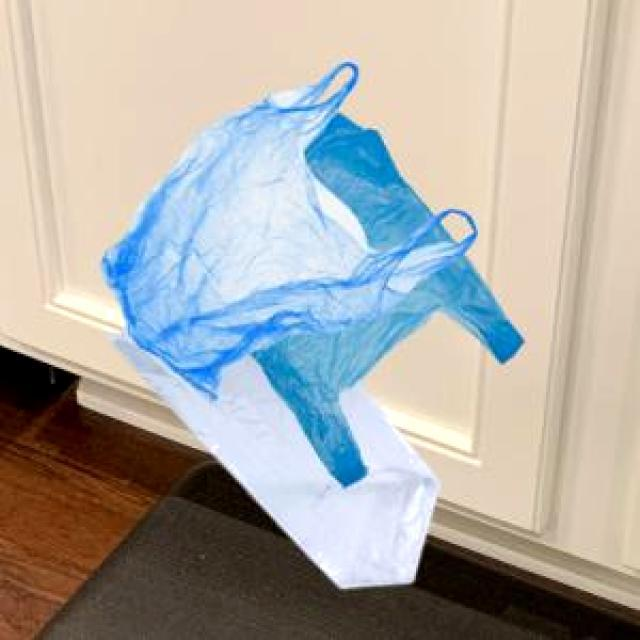Plastic_Bag: (99, 61, 473, 396), (246, 110, 520, 483), (104, 323, 436, 586)
